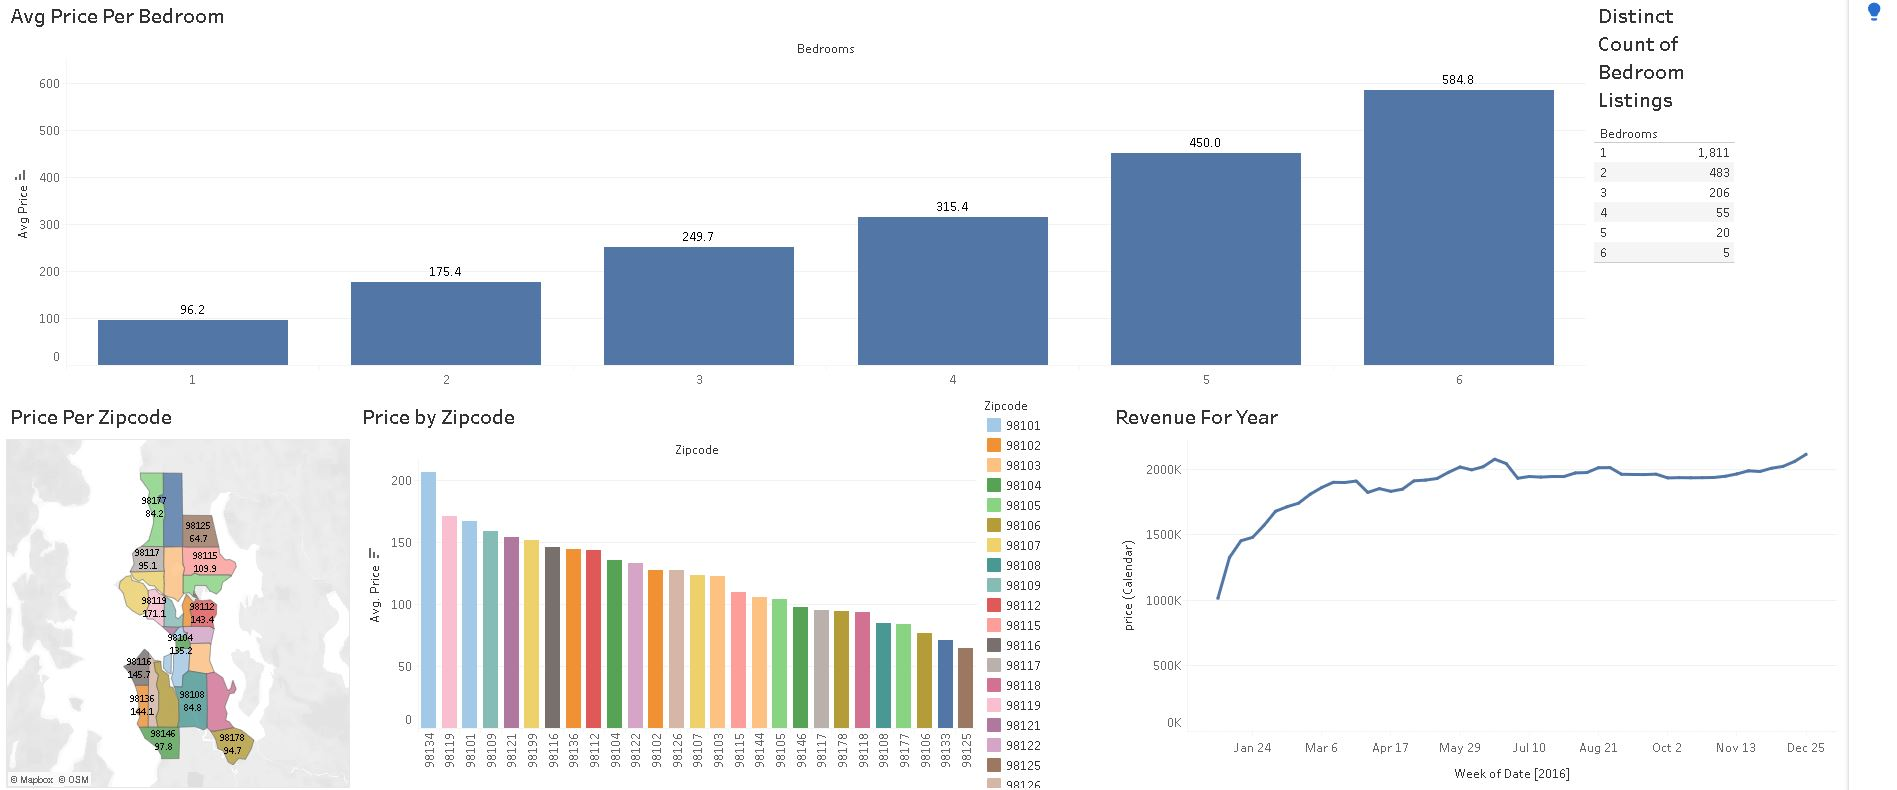

Layout of this report page (visuals, bound fields, positions):
{"tool":"tableau","page":{"name":"Dashboard 1","canvas":[1000,1000],"units":"permille","ordinal":0},"visuals":[{"type":"worksheet","title":"Sheet 4","mark":"Automatic","rows":["price"],"cols":["bedrooms"],"box":[6.1,12.2,853.2,487.8]},{"type":"worksheet","title":"Sheet 5","mark":"Automatic","rows":["bedrooms"],"box":[859.3,12.2,134.6,487.8]},{"type":"worksheet","title":"Sheet 2","mark":"Multipolygon","box":[6.1,500,188.8,487.8]},{"type":"worksheet","title":"Sheet 1","mark":"Automatic","rows":["price"],"cols":["zipcode"],"box":[195,500,336.4,487.8]},{"type":"legend","title":"Sheet 1","param":"[federated.0fq92dn1uzi7c21gipd7j133pxmm].[none:zipcode:ok]","box":[531.4,500,68,487.8]},{"type":"worksheet","title":"Sheet 3","mark":"Automatic","rows":["price (Calendar)"],"cols":["date"],"box":[599.4,500,394.5,487.8]}]}

Visuals, with their boxes on the dashboard's canvas, which has no fixed pixel size, in thousandths of its width and height (x1, y1, x2, y2). These are canvas units, not pixel positions in the 1897x790 screenshot, which may show the page scaled, cropped or inside an application window:
"Sheet 4" worksheet: box=[6, 12, 859, 500]
"Sheet 5" worksheet: box=[859, 12, 994, 500]
"Sheet 2" worksheet (Multipolygon marks): box=[6, 500, 195, 988]
"Sheet 1" worksheet: box=[195, 500, 531, 988]
"Sheet 1" legend: box=[531, 500, 599, 988]
"Sheet 3" worksheet: box=[599, 500, 994, 988]
